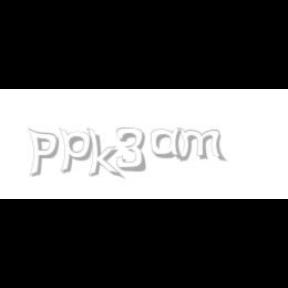3: (116, 128, 148, 172)
P: (27, 128, 59, 178)
a: (150, 128, 188, 160)
k: (86, 128, 124, 180)
m: (176, 128, 228, 162)
p: (60, 128, 96, 174)
